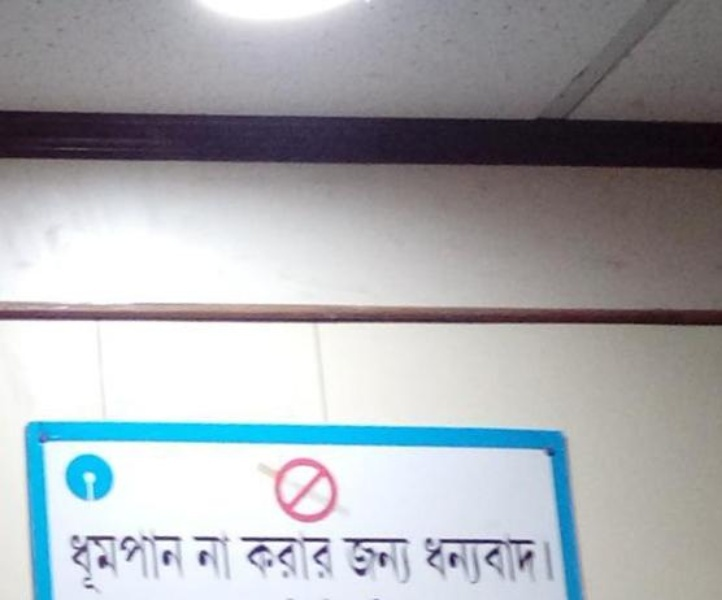text: (81, 532, 96, 595), (97, 532, 112, 595), (113, 532, 128, 595), (129, 532, 144, 595), (145, 532, 160, 595), (161, 532, 176, 595), (353, 534, 368, 588), (369, 534, 384, 588), (385, 534, 400, 588), (321, 532, 337, 581), (193, 534, 208, 584), (209, 534, 224, 584), (241, 532, 256, 581), (257, 532, 272, 581), (273, 532, 288, 581), (289, 532, 304, 581), (305, 532, 320, 581), (433, 537, 448, 586), (449, 537, 464, 586), (465, 537, 480, 586), (481, 537, 496, 586), (497, 537, 512, 586), (513, 537, 528, 586), (529, 537, 544, 586), (69, 532, 80, 595), (545, 537, 558, 586), (401, 534, 412, 588), (225, 534, 236, 584), (342, 534, 352, 588), (177, 532, 184, 595), (423, 537, 432, 586), (237, 532, 240, 581), (191, 534, 192, 584)
